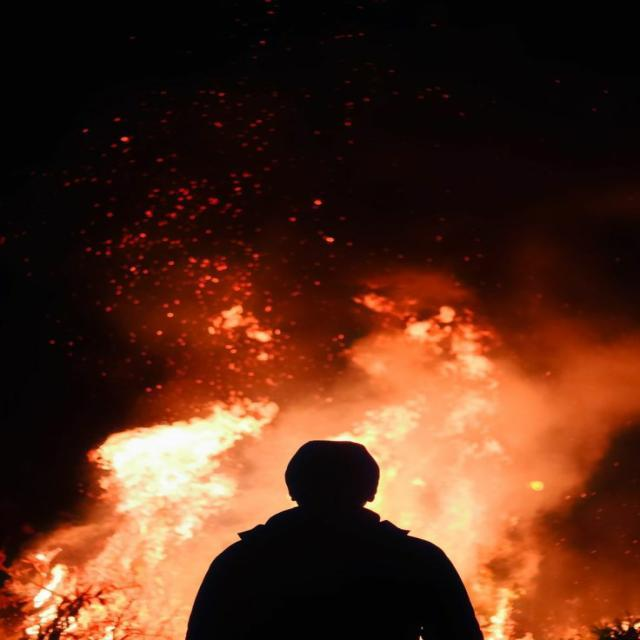Fire: (7, 300, 324, 620), (368, 270, 552, 635)
